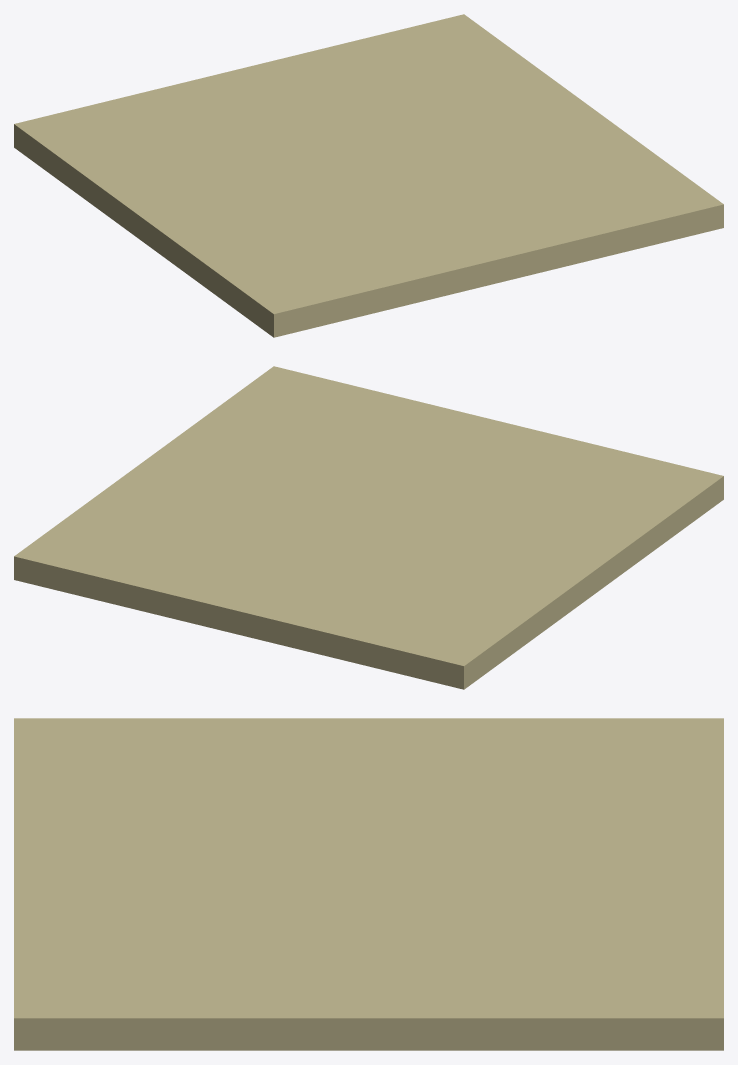
The model's file is Ceiling.fbx.
The picture shows the model from 3 angles, top to bottom: view 1: azimuth 30°, elevation 25°; view 2: azimuth 150°, elevation 25°; view 3: azimuth 270°, elevation 25°; orthographic projection. The views are drawn at different scales.
Visible parts, largest first — view 1: Ceiling; view 2: Ceiling; view 3: Ceiling.
Boxes of the visible parts, box(x1,y1,x2,y2) form: Ceiling: box(14, 14, 723, 337); Ceiling: box(14, 366, 723, 689); Ceiling: box(14, 718, 723, 1050).
Bounding box in the file's own units: 2000 × 100 × 2000.
